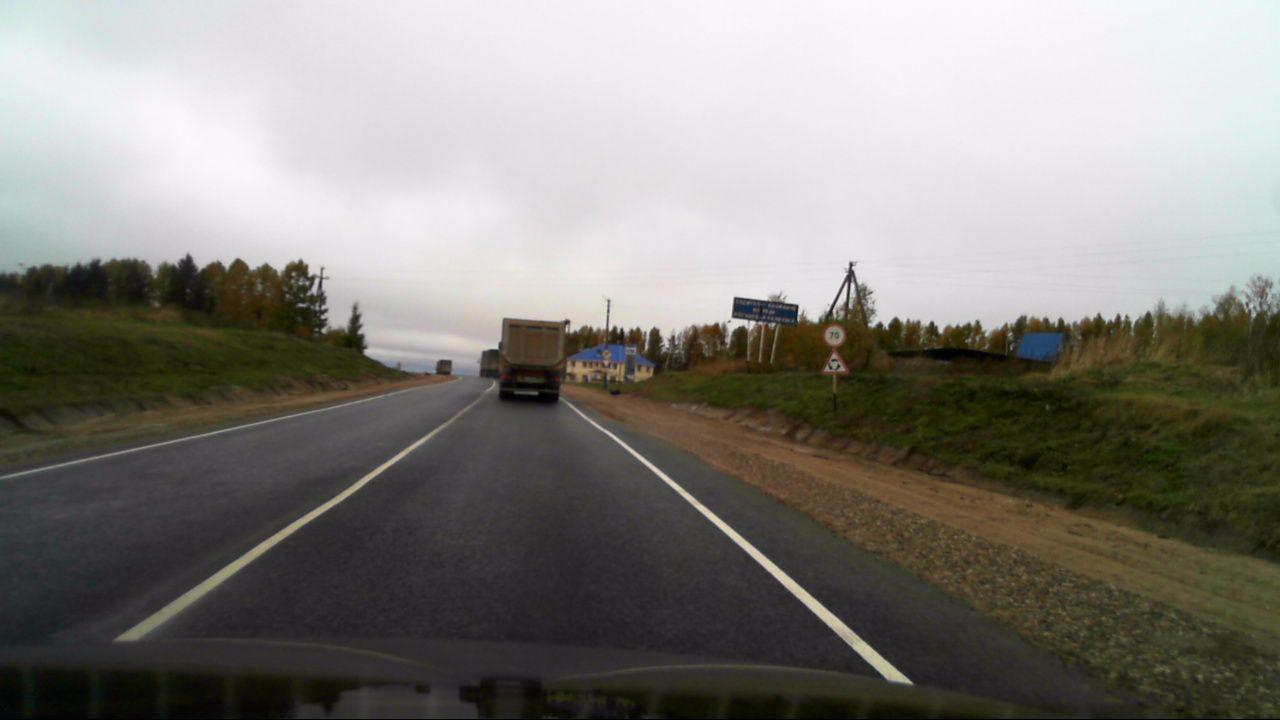1_7: (821, 349, 847, 373)
2_2: (601, 348, 613, 359)
2_4: (602, 359, 611, 366)
3_24: (822, 323, 847, 346)
